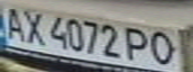0: (63, 15, 84, 52)
2: (96, 19, 124, 60)
4: (42, 11, 69, 50)
7: (78, 17, 103, 55)
A: (0, 1, 30, 42)
O: (145, 26, 184, 66)
P: (121, 24, 154, 62)
X: (18, 4, 48, 46)
